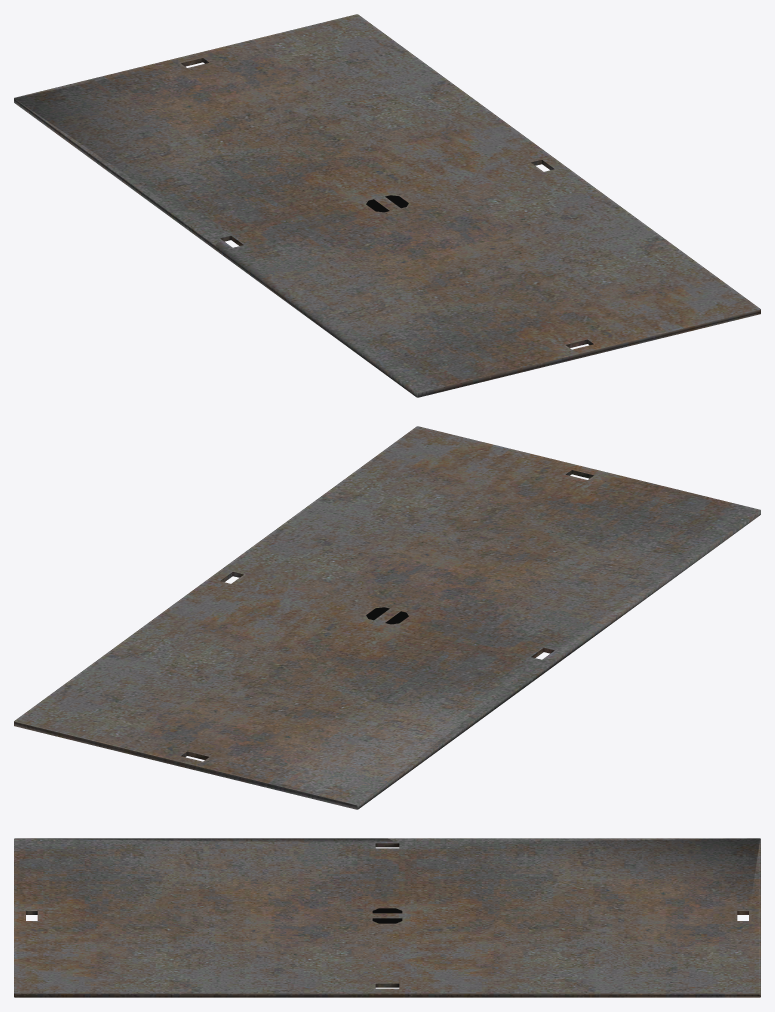
File: road_plate.obj
The picture shows the model from 3 angles, top to bottom: view 1: azimuth 30°, elevation 25°; view 2: azimuth 150°, elevation 25°; view 3: azimuth 270°, elevation 25°; orthographic projection. The views are drawn at different scales.
Parts seen in each view (by area): view 1: Model001_4_road plate_1_0_0; view 2: Model001_4_road plate_1_0_0; view 3: Model001_4_road plate_1_0_0.
Boxes of the visible parts, bbox=[...] form: Model001_4_road plate_1_0_0: bbox=[14, 14, 760, 397]; Model001_4_road plate_1_0_0: bbox=[14, 426, 760, 809]; Model001_4_road plate_1_0_0: bbox=[14, 838, 760, 997].
Bounding box in the file's own units: 1.58 × 0.0191 × 3.21.
